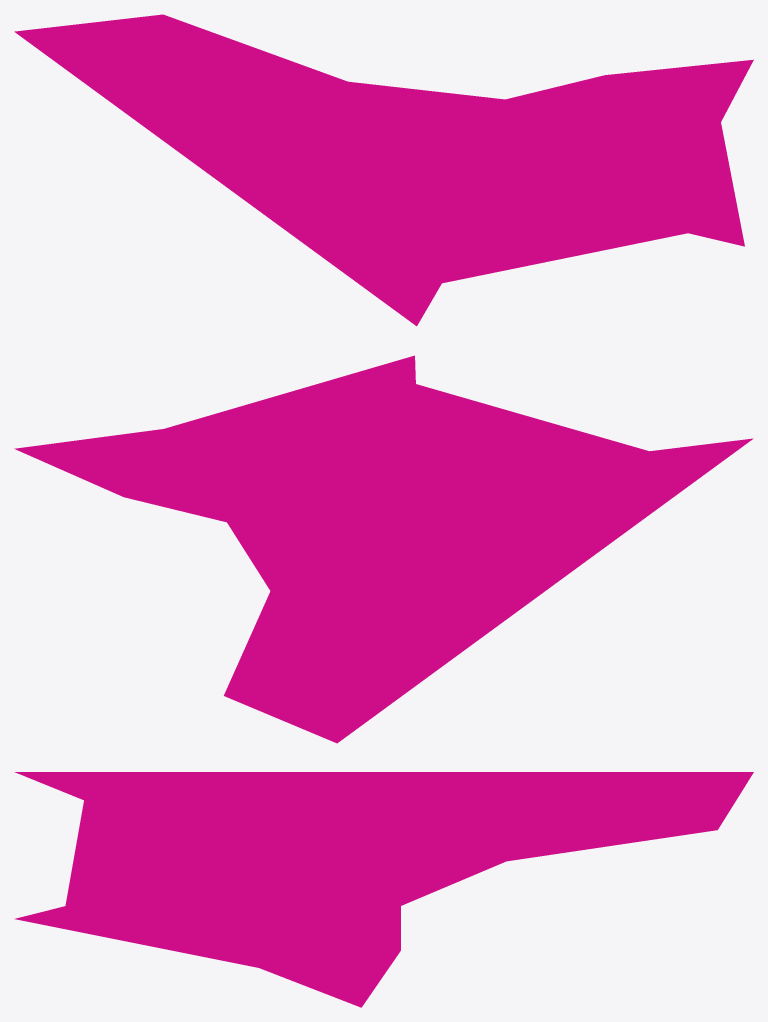
The model's file is Parchment_P_03.fbx.
3 views of the same model, one above another, from view 1: azimuth 30°, elevation 25°; view 2: azimuth 150°, elevation 25°; view 3: azimuth 270°, elevation 25° (orthographic). The views are drawn at different scales.
Visible parts, largest first — view 1: Parchment_P_03; view 2: Parchment_P_03; view 3: Parchment_P_03.
Boxes of the visible parts, bbox=[...] form: Parchment_P_03: bbox=[14, 14, 753, 326]; Parchment_P_03: bbox=[14, 355, 753, 743]; Parchment_P_03: bbox=[14, 772, 753, 1007].
Bounding box in the file's own units: 16.32 × 5.04e-15 × 21.65.
